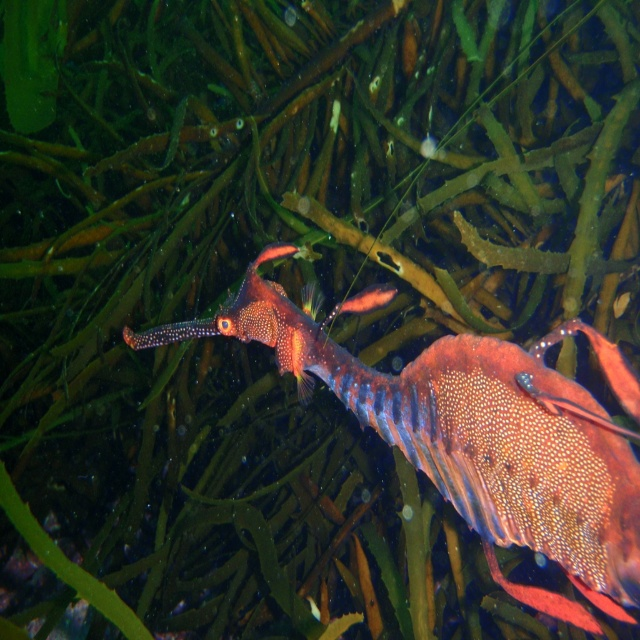Fish: (123, 240, 640, 640)
